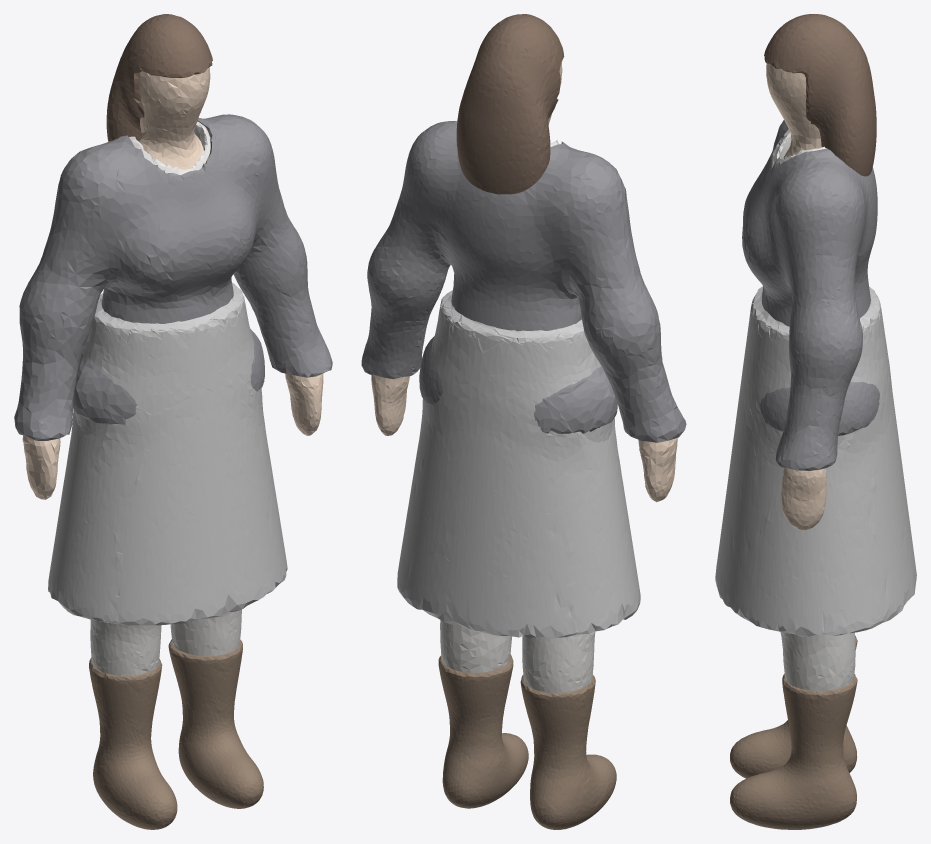
Rendered from female.glb.
The picture shows the model from 3 angles, left to right: view 1: azimuth 30°, elevation 25°; view 2: azimuth 150°, elevation 25°; view 3: azimuth 270°, elevation 25°; orthographic projection.
Parts seen in each view (by area): view 1: dress, top_jacket, shoes_boot, skin, hair, pants_long, skirt, top_short; view 2: dress, top_jacket, shoes_boot, hair, pants_long, skin, skirt; view 3: dress, top_jacket, shoes_boot, hair, skin, pants_long, skirt.
Part boxes in pixels (box(x1,y1,x2,y2)): dress: box(48, 282, 287, 625); top_jacket: box(14, 114, 332, 440); shoes_boot: box(89, 639, 263, 829); skin: box(22, 67, 323, 499); hair: box(106, 14, 212, 141); pants_long: box(90, 609, 241, 676); skirt: box(75, 288, 244, 434); top_short: box(129, 121, 210, 174); dress: box(397, 290, 640, 638); top_jacket: box(361, 121, 686, 442); shoes_boot: box(438, 654, 616, 829); hair: box(456, 14, 564, 194); pants_long: box(440, 620, 595, 692); skin: box(371, 63, 677, 502); skirt: box(440, 296, 612, 442); dress: box(715, 287, 916, 636); top_jacket: box(742, 120, 879, 471); shoes_boot: box(730, 635, 857, 829); hair: box(764, 14, 876, 176); skin: box(766, 63, 826, 530); pants_long: box(780, 632, 855, 690); skirt: box(750, 286, 882, 446).
Size of the model in its own units: 0.7124 by 1.72 by 0.399.
